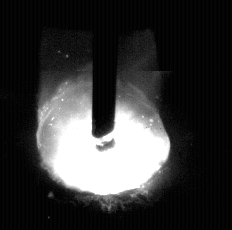arame: (92, 0, 117, 137)
poca: (36, 0, 170, 230)
